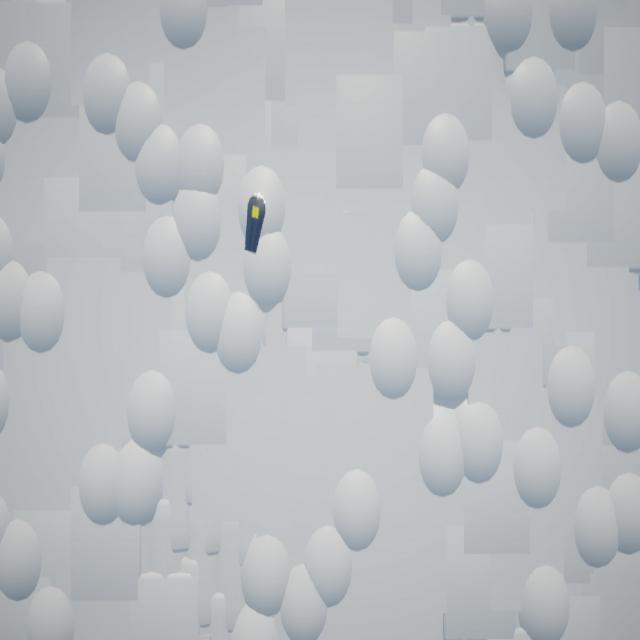handle_folk: (246, 195, 266, 255)
